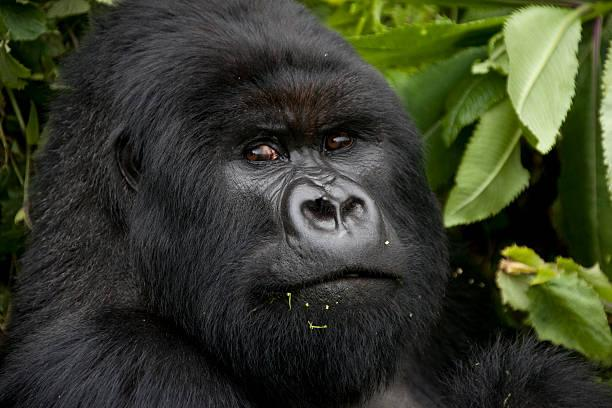goriile_montagne: (10, 5, 597, 408)
